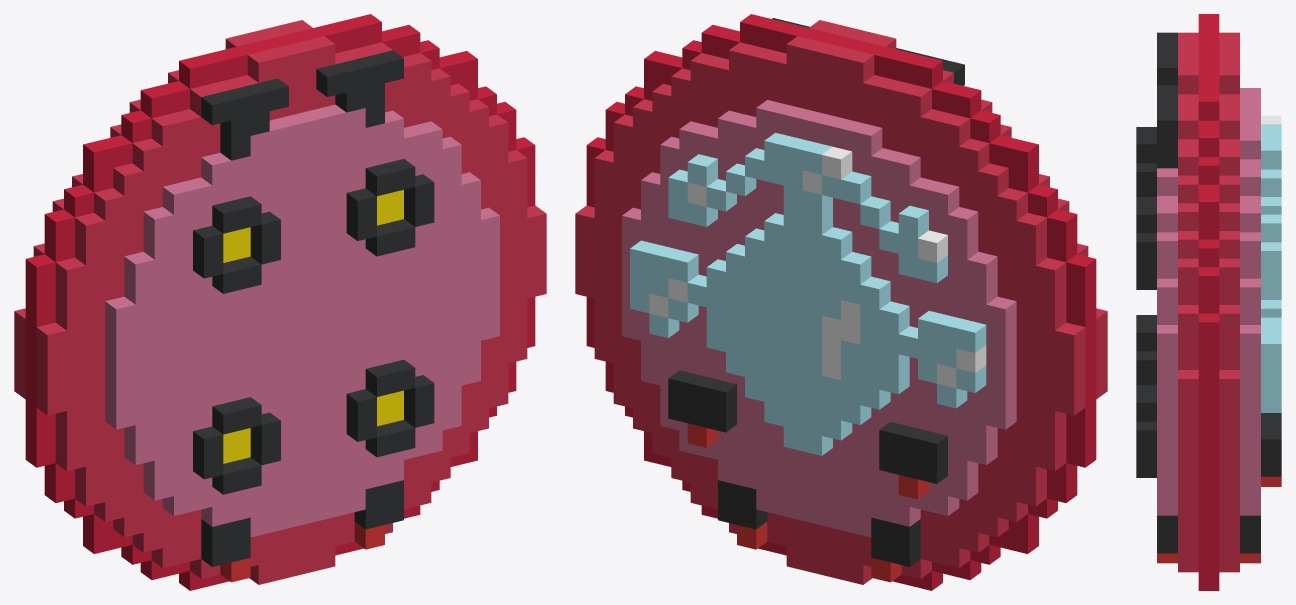
The model's file is EnemyShip1Voxel.FBX.
3 renders of one model, left to right at view 1: azimuth 30°, elevation 25°; view 2: azimuth 150°, elevation 25°; view 3: azimuth 270°, elevation 25°, orthographic. The views are drawn at different scales.
Parts seen in each view (by area): view 1: model_EnemyShip1Voxel_obj; view 2: model_EnemyShip1Voxel_obj; view 3: model_EnemyShip1Voxel_obj.
Boxes of the visible parts, left/top/right/bottom form: model_EnemyShip1Voxel_obj: left=14, top=14, right=546, bottom=590; model_EnemyShip1Voxel_obj: left=575, top=14, right=1107, bottom=590; model_EnemyShip1Voxel_obj: left=1136, top=14, right=1281, bottom=590.
Size of the model in its own units: 26 by 26 by 7.
1 material, 1 textured.
